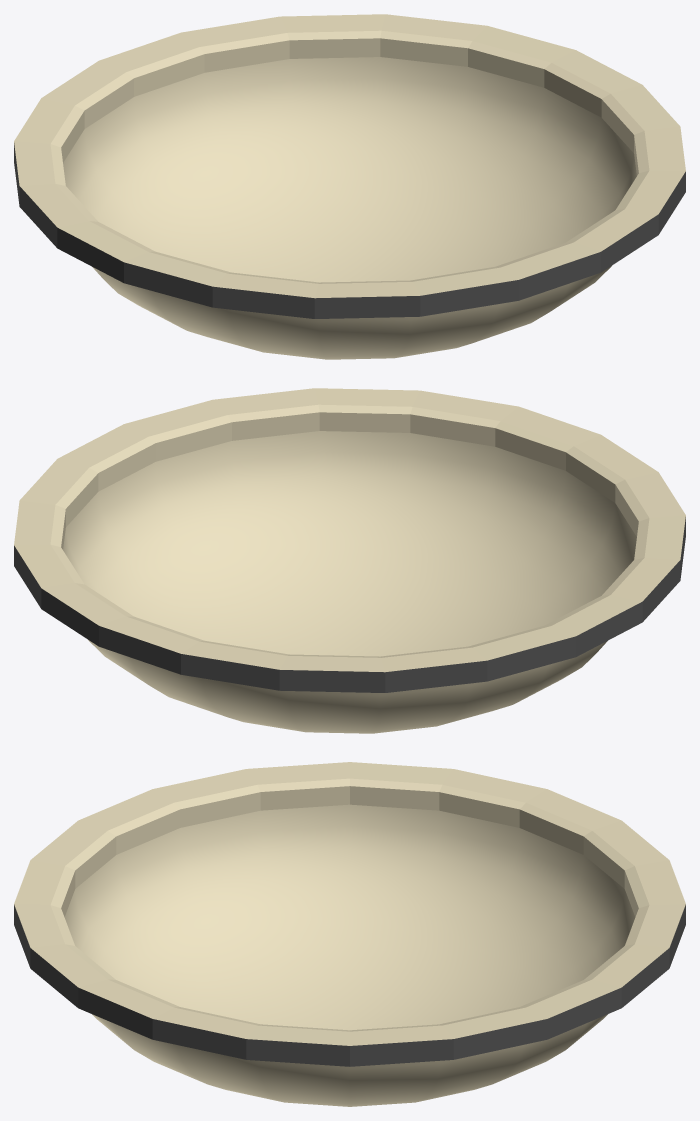
The model's file is Light.fbx.
3 renders of one model, top to bottom at view 1: azimuth 30°, elevation 25°; view 2: azimuth 150°, elevation 25°; view 3: azimuth 270°, elevation 25°, orthographic.
Visible parts, largest first — view 1: pSphere1; view 2: pSphere1; view 3: pSphere1.
Boxes of the visible parts, left/top/right/bottom form: pSphere1: left=14, top=14, right=685, bottom=359; pSphere1: left=14, top=388, right=685, bottom=733; pSphere1: left=14, top=762, right=685, bottom=1106.
Bounding box in the file's own units: 2.33 × 0.5817 × 2.33.
